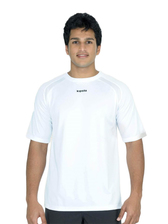clothoes: (25, 71, 149, 212)
